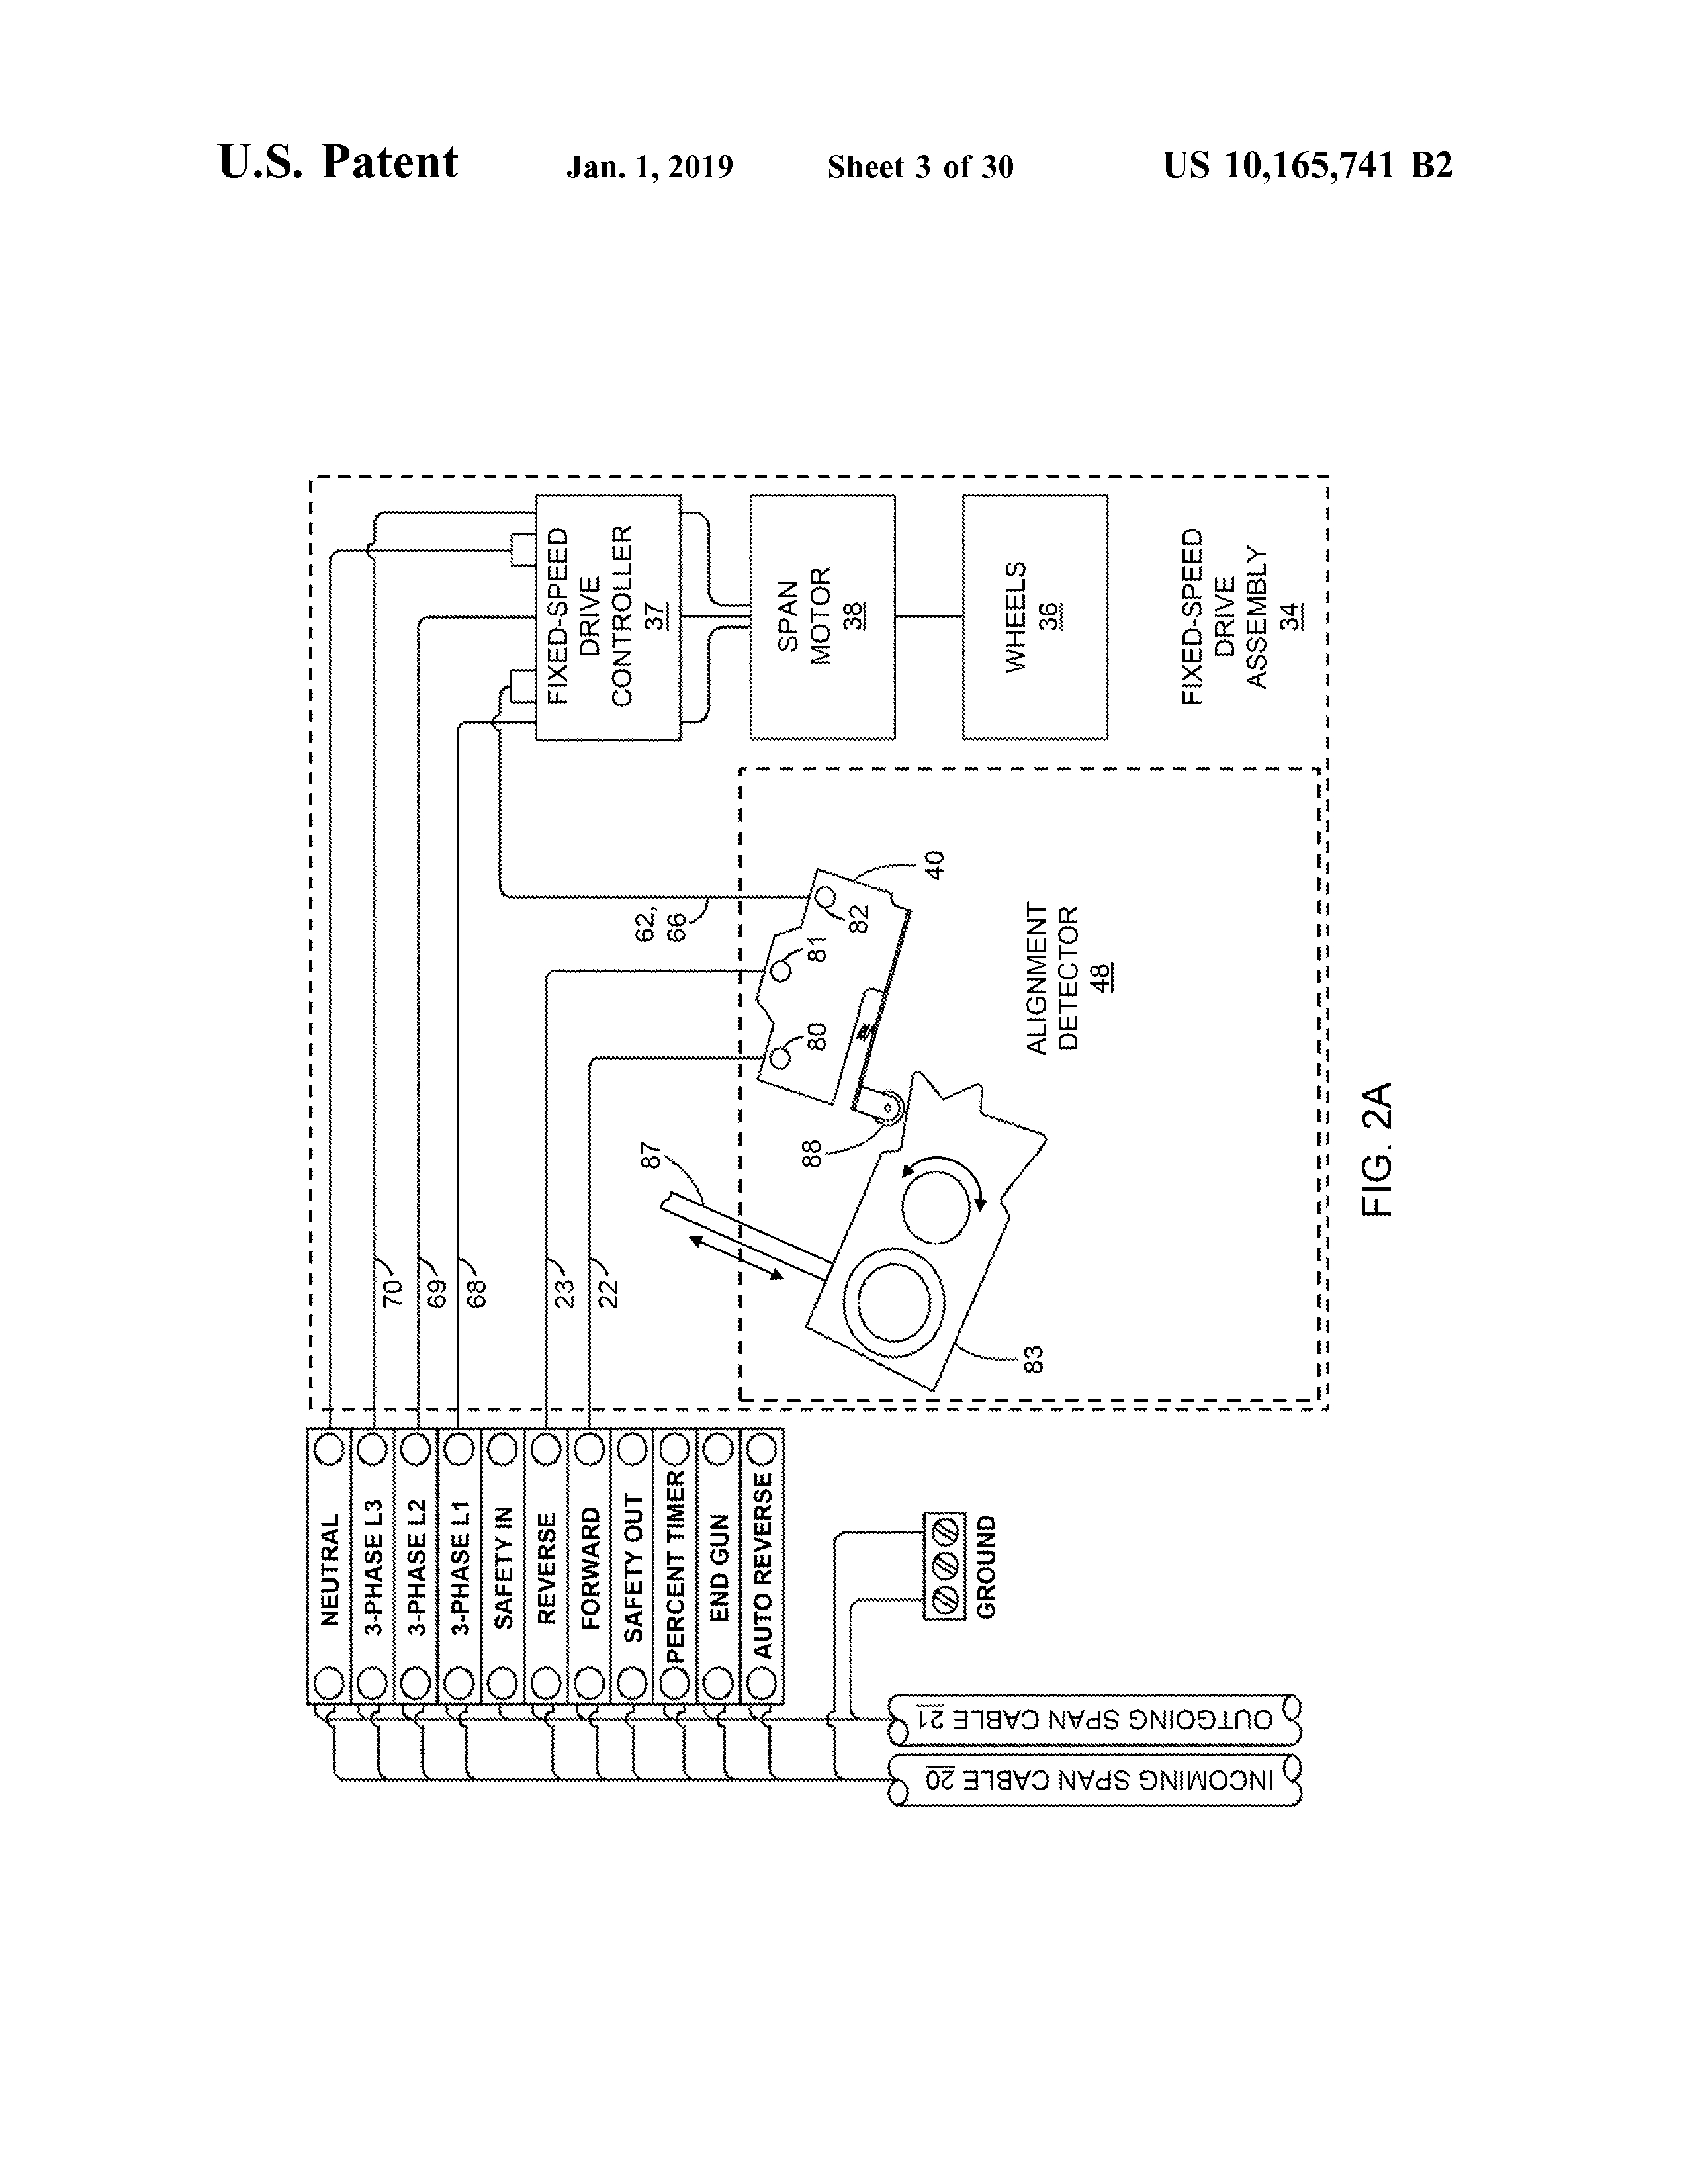patent image: (222, 381, 1493, 1886)
